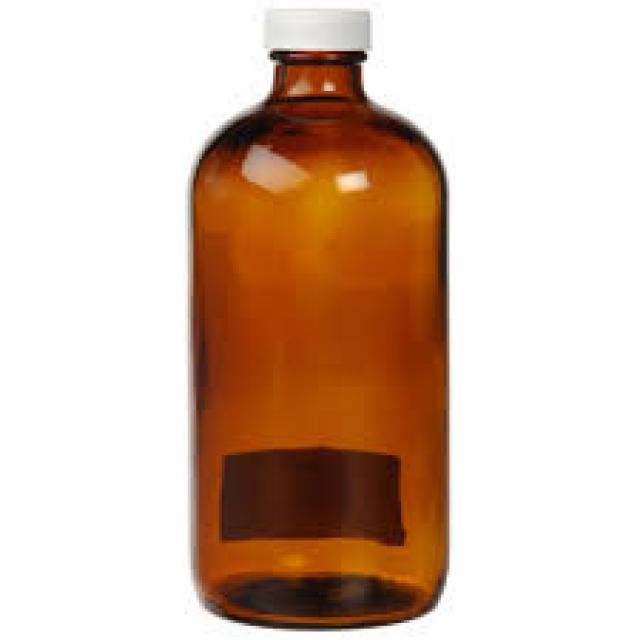glass: (185, 46, 444, 620)
plastic: (259, 6, 370, 48)
